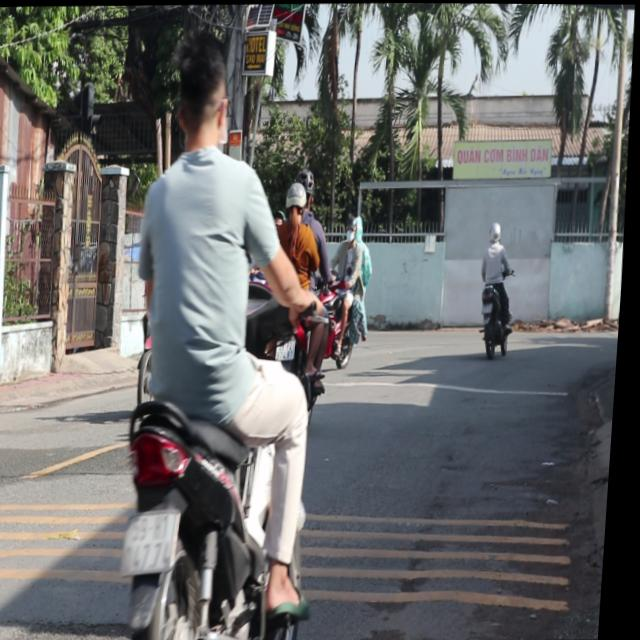helmet: (284, 179, 309, 219)
licenseplate: (105, 30, 350, 636), (262, 170, 344, 424)
motorcyclist: (167, 34, 235, 155)
nohelmet: (128, 508, 186, 569)
